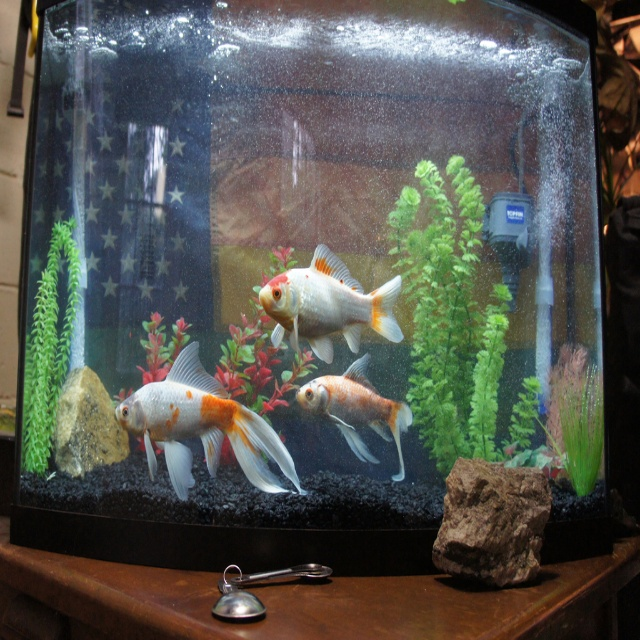Goldfish: (115, 341, 308, 498), (259, 244, 404, 364), (292, 355, 414, 482)
